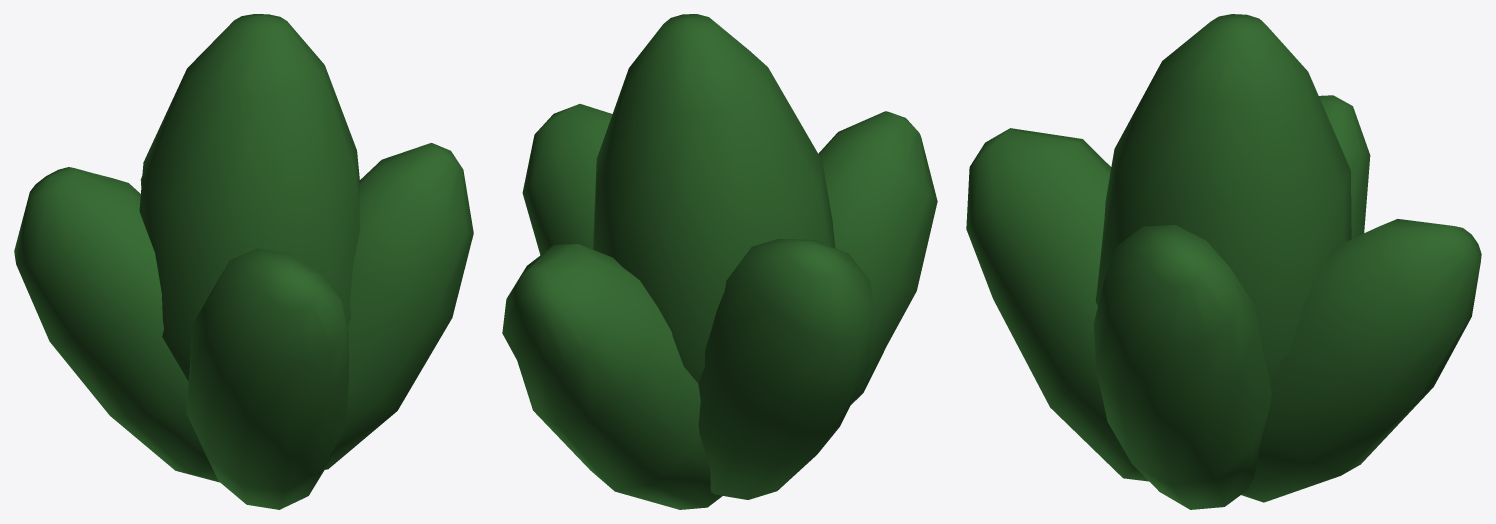
The model's file is shrub-2-2.fbx.
The picture shows the model from 3 angles, left to right: view 1: azimuth 30°, elevation 25°; view 2: azimuth 150°, elevation 25°; view 3: azimuth 270°, elevation 25°; orthographic projection. The views are drawn at different scales.
Parts seen in each view (by area): view 1: Sphere; view 2: Sphere; view 3: Sphere.
Part boxes in pixels (left/top/right/bottom): Sphere: left=14, top=14, right=473, bottom=509; Sphere: left=502, top=14, right=937, bottom=509; Sphere: left=966, top=14, right=1481, bottom=509.
Size of the model in its own units: 67.34 by 77.63 by 75.38.
